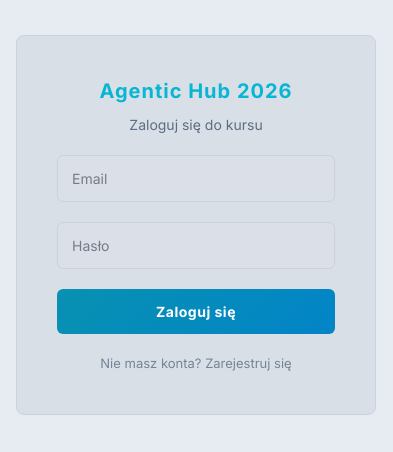
shows error message on failed login
The width and height of the screenshot is (393, 452).
Type "bad@test.com" into the field with placeholder "Email".
click(196, 179); type("bad@test.com")  # box [57, 155, 335, 202]
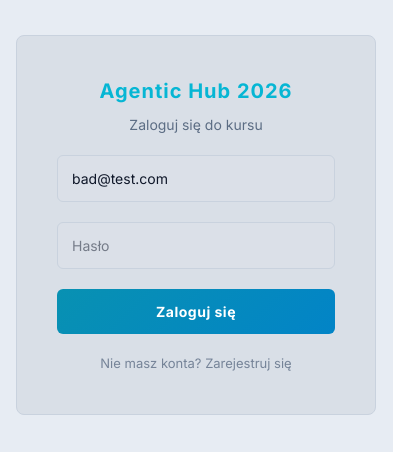
Type "wrongpass" into the password field with placeholder "Hasło".
click(196, 246); type("wrongpass")  # box [57, 222, 335, 269]
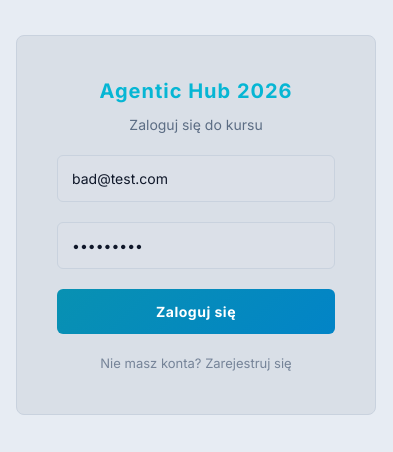
Click the button "Zaloguj się".
click(196, 312)  # box [57, 289, 335, 334]
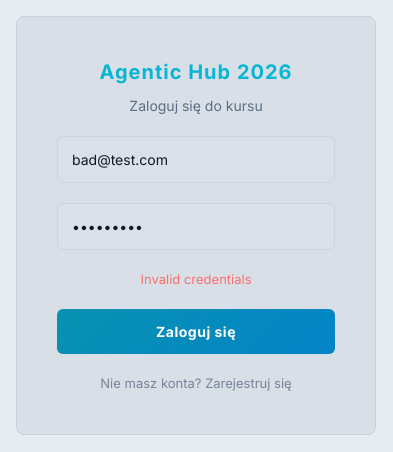
Expected: the text "Invalid credentials" is shown, [140, 270, 252, 286]
